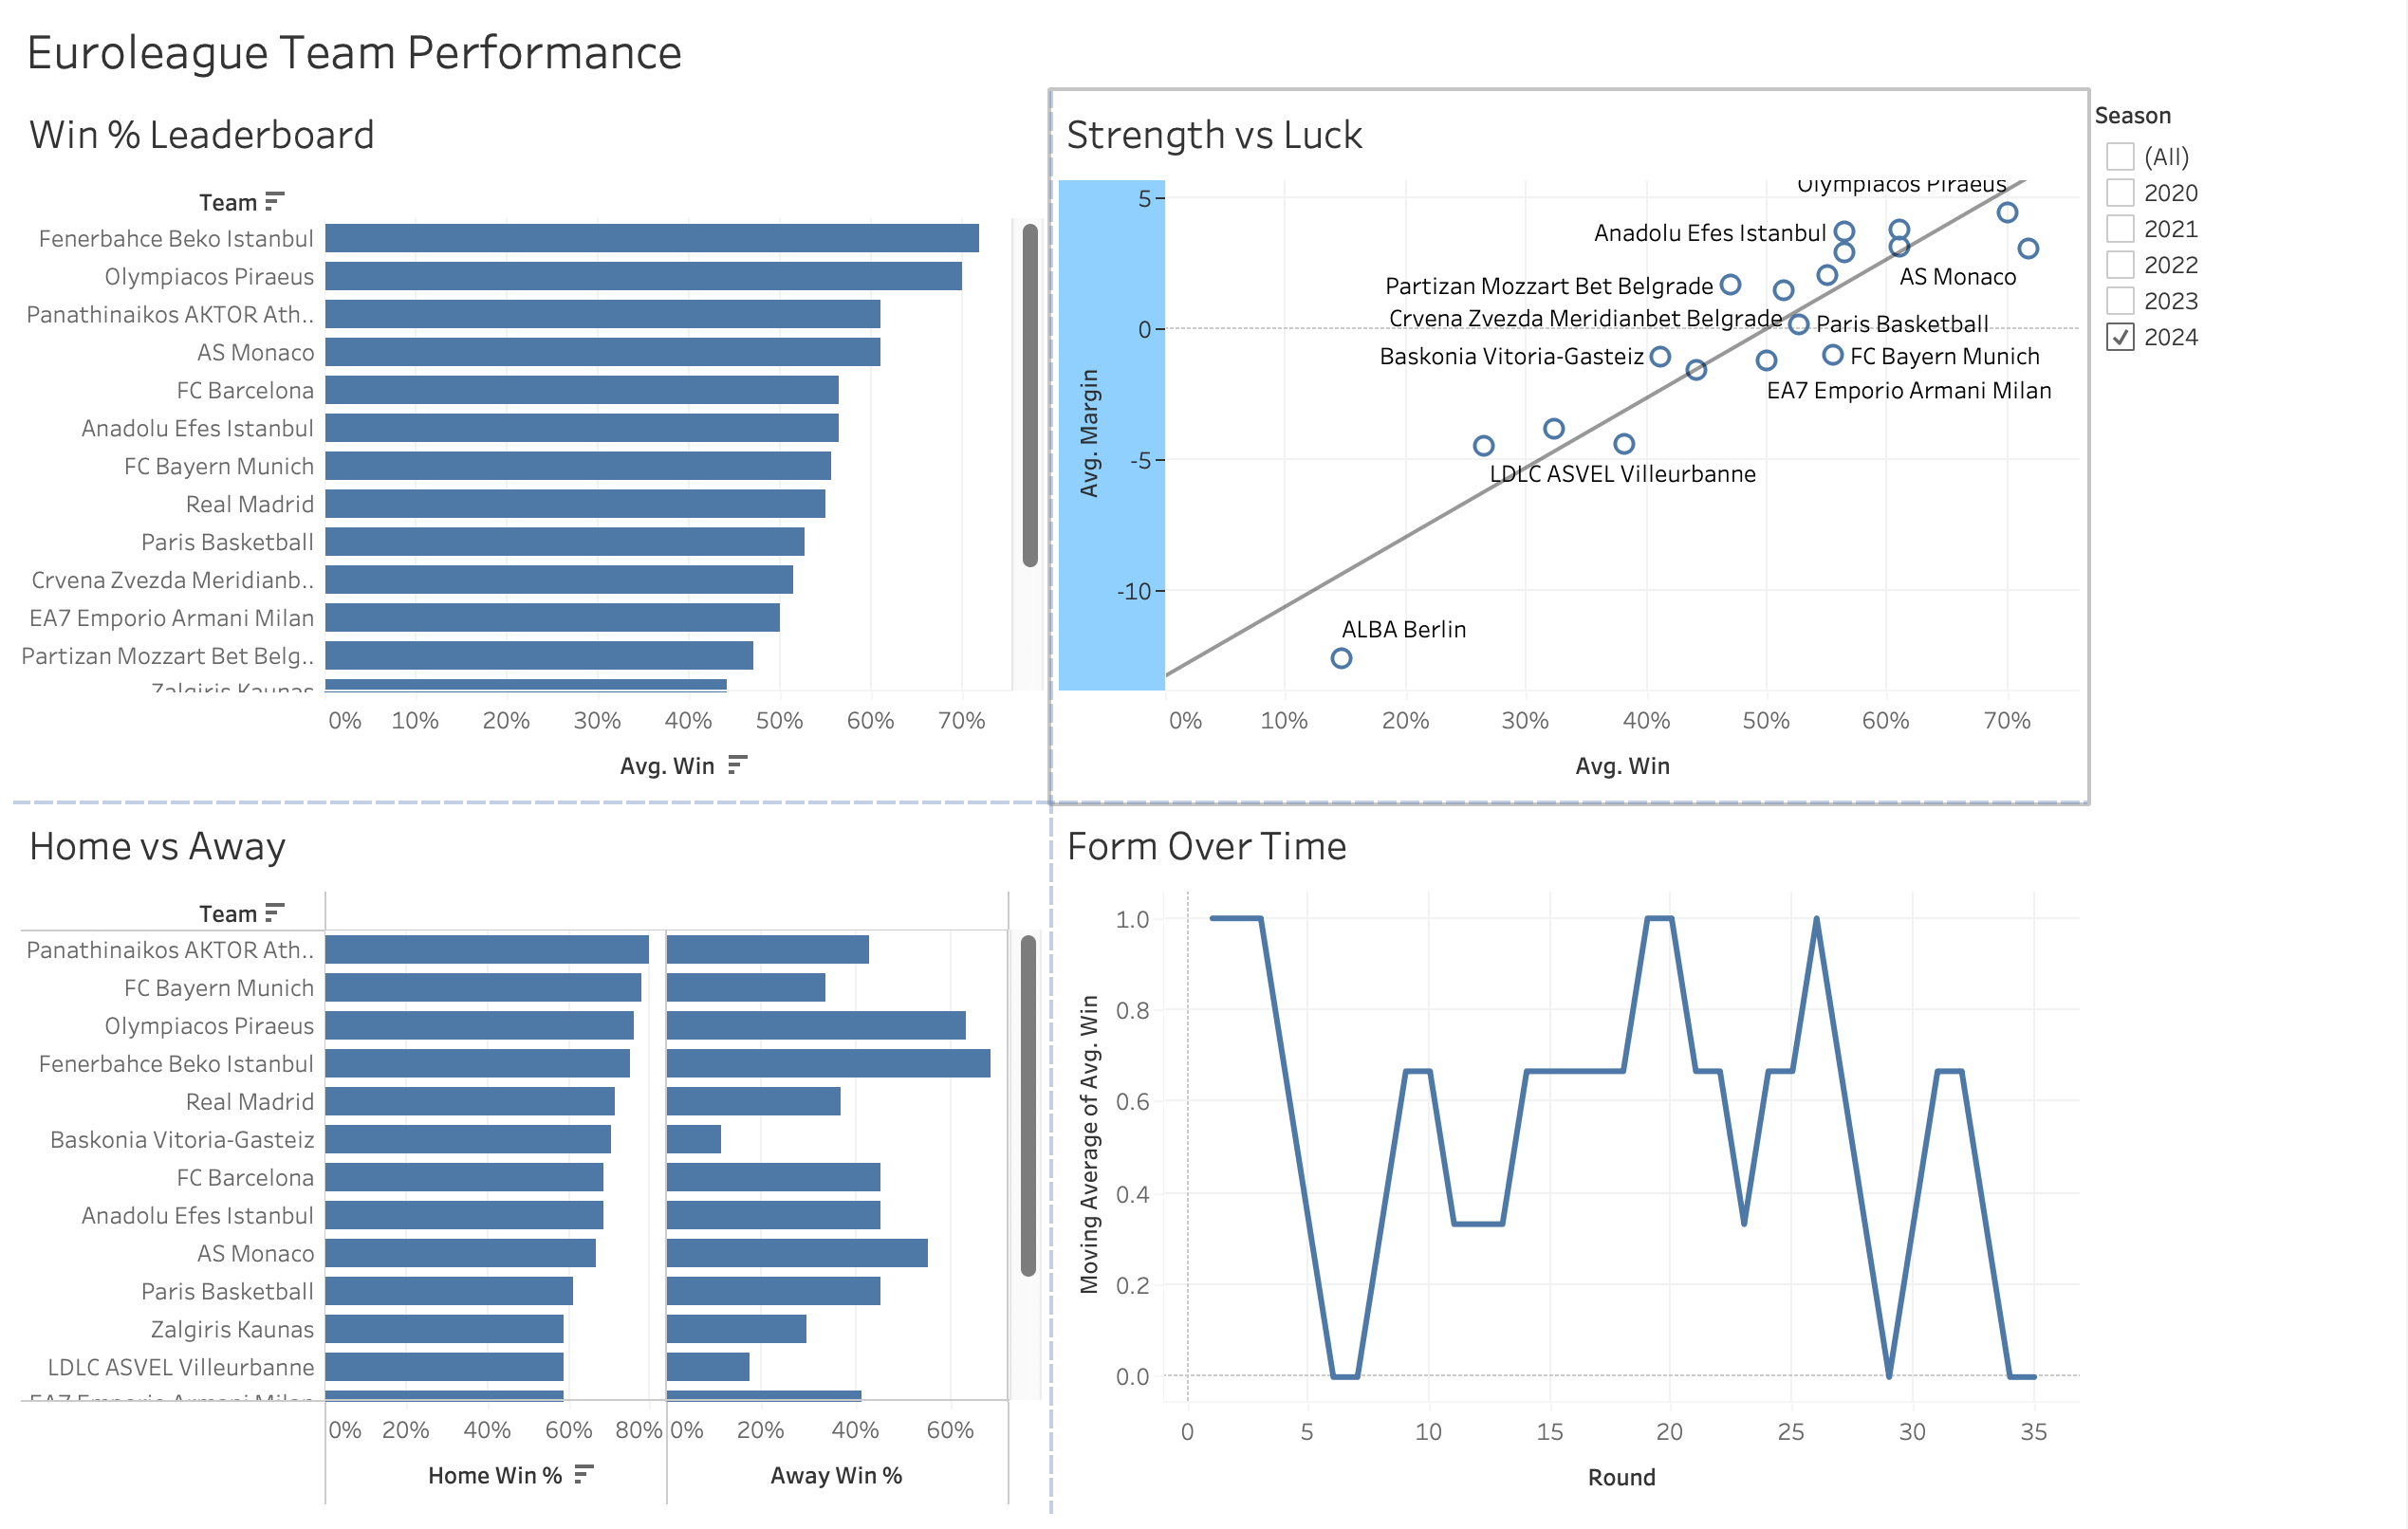

The dashboard page shown, as its layout file describes it:
{"tool":"tableau","page":{"name":"Dashboard 1","canvas":[1000,1000],"units":"permille","ordinal":0},"visuals":[{"type":"title","box":[6.3,10.6,987.4,55.6]},{"type":"worksheet","title":"Win % Leaderboard","mark":"Automatic","rows":["team"],"cols":["win"],"box":[6.3,66.2,430.7,461.6]},{"type":"worksheet","title":"Strength vs Luck","mark":"Automatic","rows":["margin"],"cols":["win"],"box":[437,66.2,430.7,461.6]},{"type":"filter","title":"Win % Leaderboard","param":"[federated.1km93nd090n5qs1d827qv08f92va].[none:season:ok]","box":[867.6,66.2,126.1,193.4]},{"type":"worksheet","title":"Home vs Away","mark":"Automatic","rows":["team"],"cols":["Calculation_3637963687407617","Calculation_3637963687694338"],"box":[6.3,527.8,430.7,461.6]},{"type":"worksheet","title":"Form Over Time","mark":"Automatic","rows":["win"],"cols":["round"],"box":[437,527.8,430.7,461.6]}]}

Visuals, with their boxes on the dashboard's canvas, which has no fixed pixel size, in thousandths of its width and height (x1, y1, x2, y2). These are canvas units, not pixel positions in the 2408x1529 screenshot, which may show the page scaled, cropped or inside an application window:
title: [x1=6, y1=11, x2=994, y2=66]
"Win % Leaderboard" worksheet: [x1=6, y1=66, x2=437, y2=528]
"Strength vs Luck" worksheet: [x1=437, y1=66, x2=868, y2=528]
"Win % Leaderboard" filter: [x1=868, y1=66, x2=994, y2=260]
"Home vs Away" worksheet: [x1=6, y1=528, x2=437, y2=989]
"Form Over Time" worksheet: [x1=437, y1=528, x2=868, y2=989]
